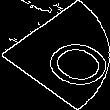O_NW: (8, 21, 102, 89)
